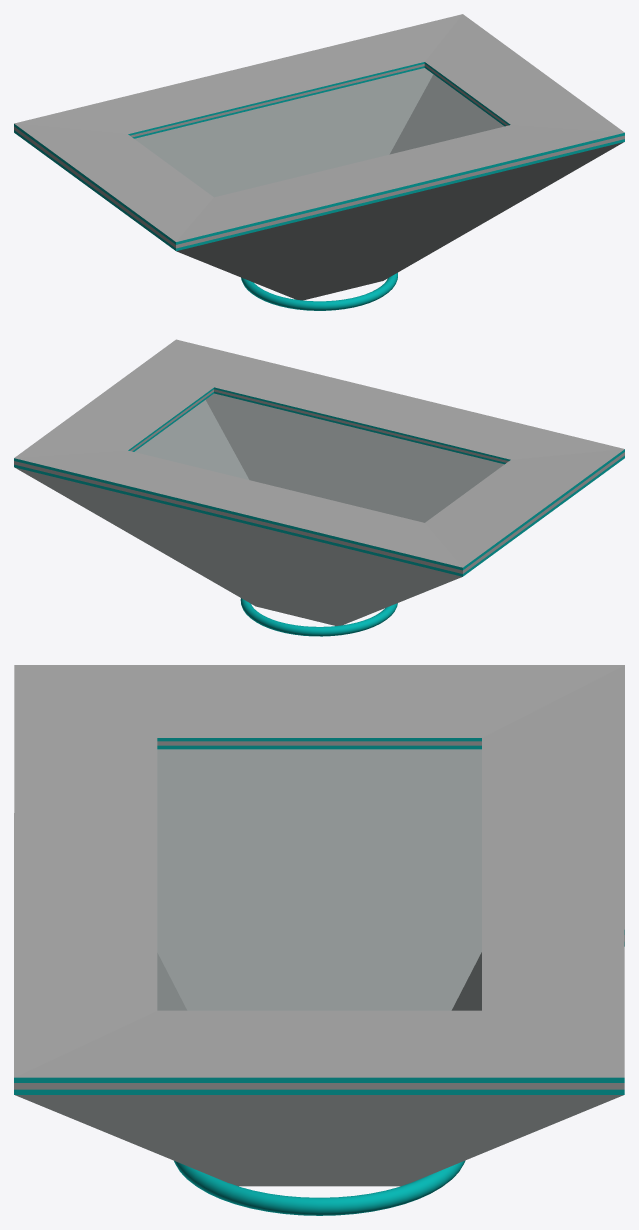
The model's file is office_table.fbx.
The picture shows the model from 3 angles, top to bottom: view 1: azimuth 30°, elevation 25°; view 2: azimuth 150°, elevation 25°; view 3: azimuth 270°, elevation 25°; orthographic projection. The views are drawn at different scales.
Parts seen in each view (by area): view 1: polySurface1, polySurface2, pTorus2; view 2: polySurface1, polySurface2, pTorus2; view 3: polySurface1, polySurface2, pTorus2.
Boxes of the visible parts, x1=… form: polySurface1: x1=14, y1=14, x2=624, y2=251; polySurface2: x1=134, y1=68, x2=623, y2=300; pTorus2: x1=241, y1=272, x2=397, y2=310; polySurface1: x1=14, y1=339, x2=624, y2=576; polySurface2: x1=15, y1=393, x2=504, y2=625; pTorus2: x1=240, y1=598, x2=397, y2=636; polySurface1: x1=14, y1=665, x2=624, y2=1094; polySurface2: x1=15, y1=749, x2=623, y2=1186; pTorus2: x1=174, y1=1160, x2=465, y2=1215.
Size of the model in its own units: 16 by 5.15 by 10.01.
